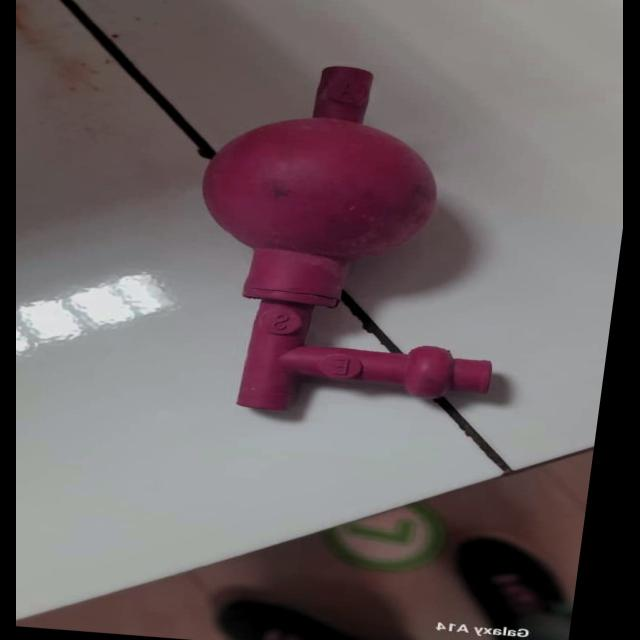Droppers: (112, 46, 542, 436)
